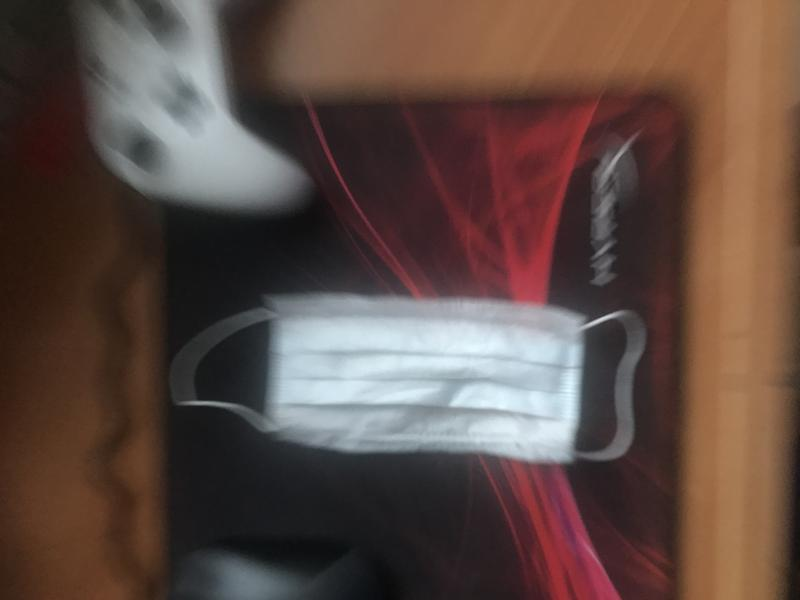medical_mask: (170, 297, 646, 465)
